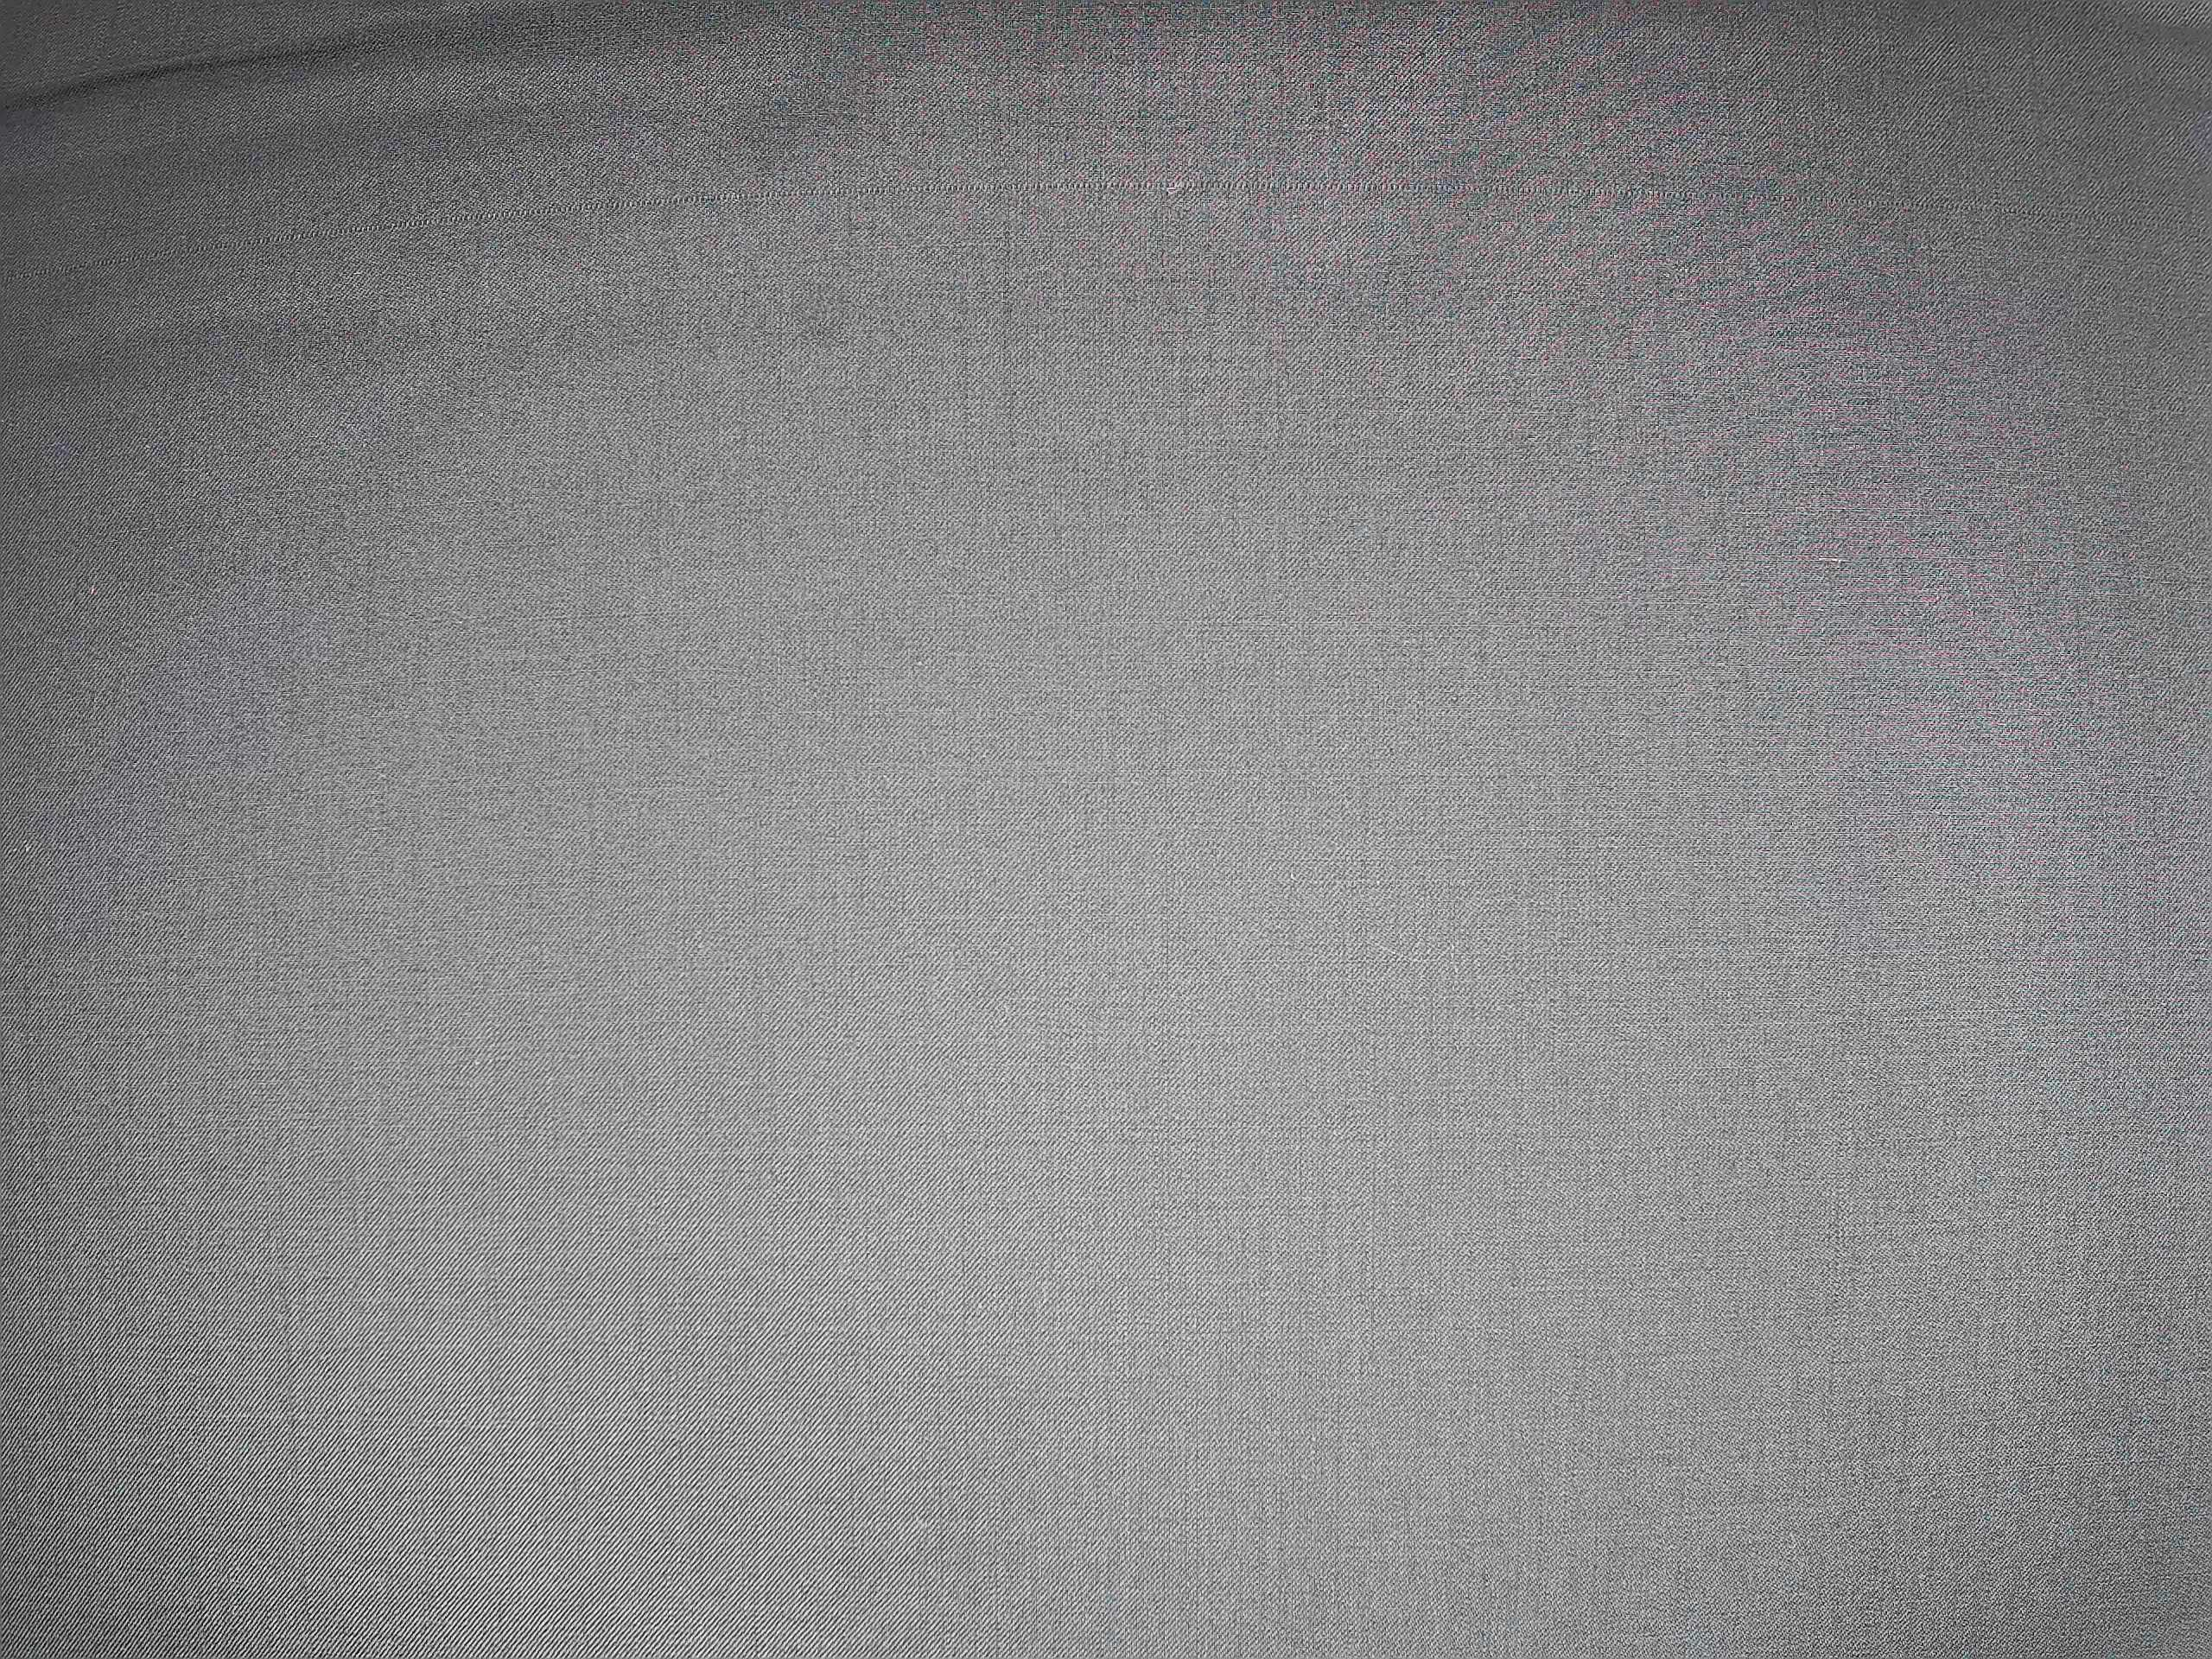others: (7, 167, 2209, 301)
